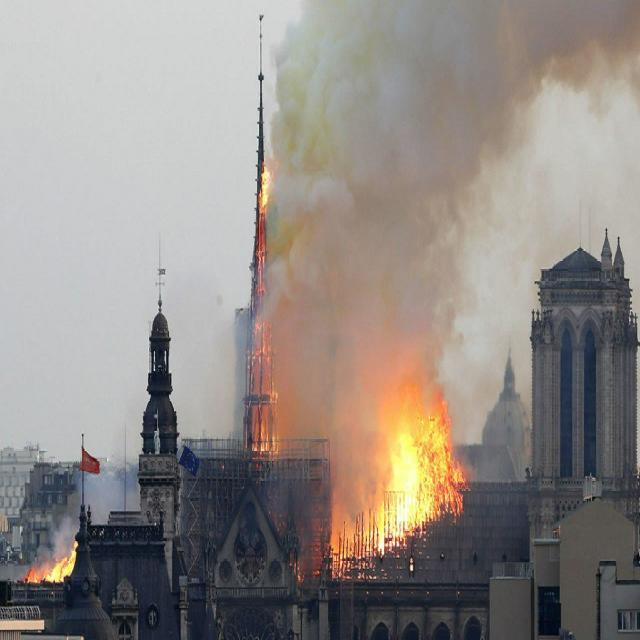Fire: (372, 381, 466, 552), (26, 536, 79, 586)
Smoke: (272, 2, 640, 443), (170, 274, 247, 442), (46, 464, 140, 544)
